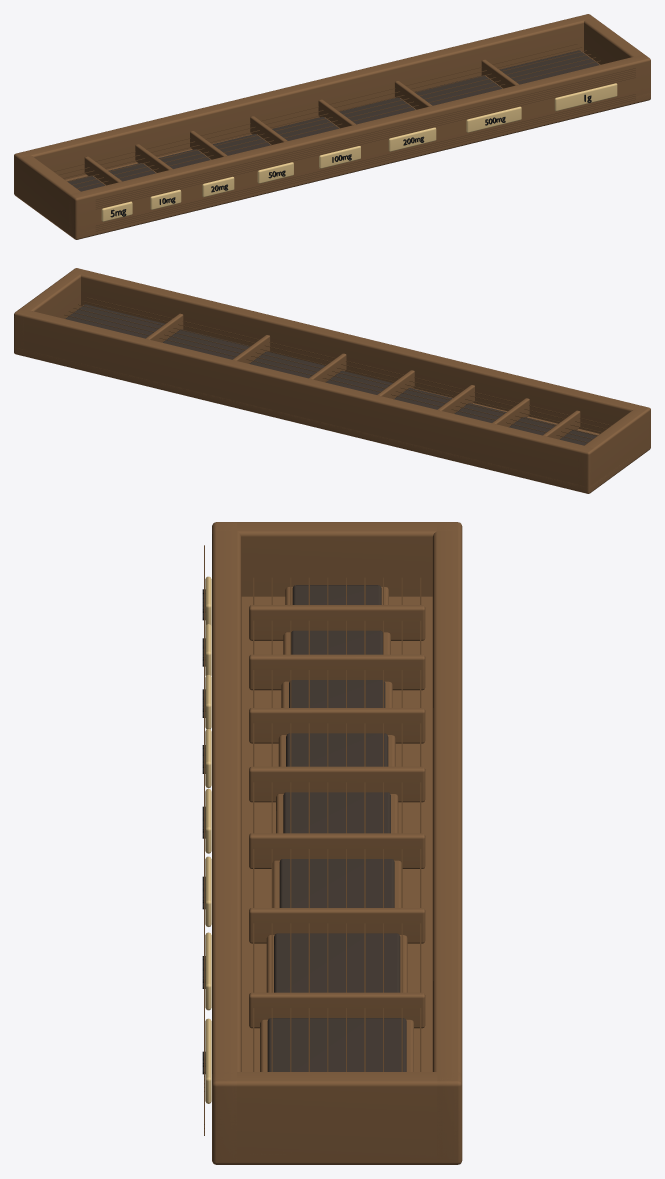
File: weightbox.fbx
3 views of the same model, one above another, from view 1: azimuth 30°, elevation 25°; view 2: azimuth 150°, elevation 25°; view 3: azimuth 270°, elevation 25° (orthographic). The views are drawn at different scales.
Visible parts, largest first — view 1: Front_Wall, Back_Wall, Left_Wall, Weight_Box_Base, Right_Wall, Slot_Depression_1g, Slot_Depression_500mg, Slot_Depression_200mg, Front_Plate_1g, Slot_Depression_100mg, Front_Plate_500mg, Slot_Depression_50mg (+32 smaller); view 2: Back_Wall, Front_Wall, Weight_Box_Base, Left_Wall, Right_Wall, Slot_Depression_1g, Slot_Depression_500mg, Slot_Depression_200mg, Slot_Depression_100mg, Slot_Depression_50mg, Wood_Grain_Inside_4, Wood_Grain_Inside_1 (+14 smaller); view 3: Right_Wall, Back_Wall, Front_Wall, Weight_Box_Base, Left_Wall, Slot_Depression_500mg, Slot_Depression_1g, Slot_Depression_200mg, Divider_2, Divider_4, Divider_1, Divider_3 (+9 smaller).
Part boxes in pixels (bbox=[...]): Front_Wall: bbox=[69, 54, 650, 239]; Back_Wall: bbox=[15, 14, 594, 179]; Left_Wall: bbox=[14, 153, 86, 239]; Weight_Box_Base: bbox=[65, 93, 650, 237]; Right_Wall: bbox=[580, 14, 650, 102]; Slot_Depression_1g: bbox=[499, 50, 599, 84]; Slot_Depression_500mg: bbox=[414, 75, 502, 105]; Slot_Depression_200mg: bbox=[339, 97, 415, 124]; Front_Plate_1g: bbox=[554, 83, 617, 111]; Slot_Depression_100mg: bbox=[272, 116, 339, 140]; Front_Plate_500mg: bbox=[466, 106, 521, 132]; Slot_Depression_50mg: bbox=[212, 134, 270, 155]; Back_Wall: bbox=[14, 308, 594, 493]; Front_Wall: bbox=[71, 268, 650, 452]; Weight_Box_Base: bbox=[14, 347, 650, 493]; Left_Wall: bbox=[578, 405, 650, 493]; Right_Wall: bbox=[14, 268, 84, 356]; Slot_Depression_1g: bbox=[65, 304, 165, 338]; Slot_Depression_500mg: bbox=[162, 329, 250, 359]; Slot_Depression_200mg: bbox=[249, 351, 325, 378]; Slot_Depression_100mg: bbox=[325, 370, 392, 394]; Slot_Depression_50mg: bbox=[394, 388, 452, 409]; Wood_Grain_Inside_4: bbox=[69, 311, 592, 439]; Wood_Grain_Inside_1: bbox=[82, 301, 606, 429]; Right_Wall: bbox=[212, 1072, 462, 1164]; Back_Wall: bbox=[432, 522, 462, 1164]; Front_Wall: bbox=[212, 522, 241, 1164]; Weight_Box_Base: bbox=[212, 596, 461, 1158]; Left_Wall: bbox=[212, 522, 462, 596]; Slot_Depression_500mg: bbox=[274, 933, 400, 992]; Slot_Depression_1g: bbox=[267, 1018, 406, 1071]; Slot_Depression_200mg: bbox=[279, 859, 394, 907]; Divider_2: bbox=[249, 654, 425, 690]; Divider_4: bbox=[249, 766, 425, 802]; Divider_1: bbox=[249, 605, 425, 640]; Divider_3: bbox=[249, 708, 425, 743].
Bounding box in the file's own units: 7.17 × 0.55 × 1.4.
